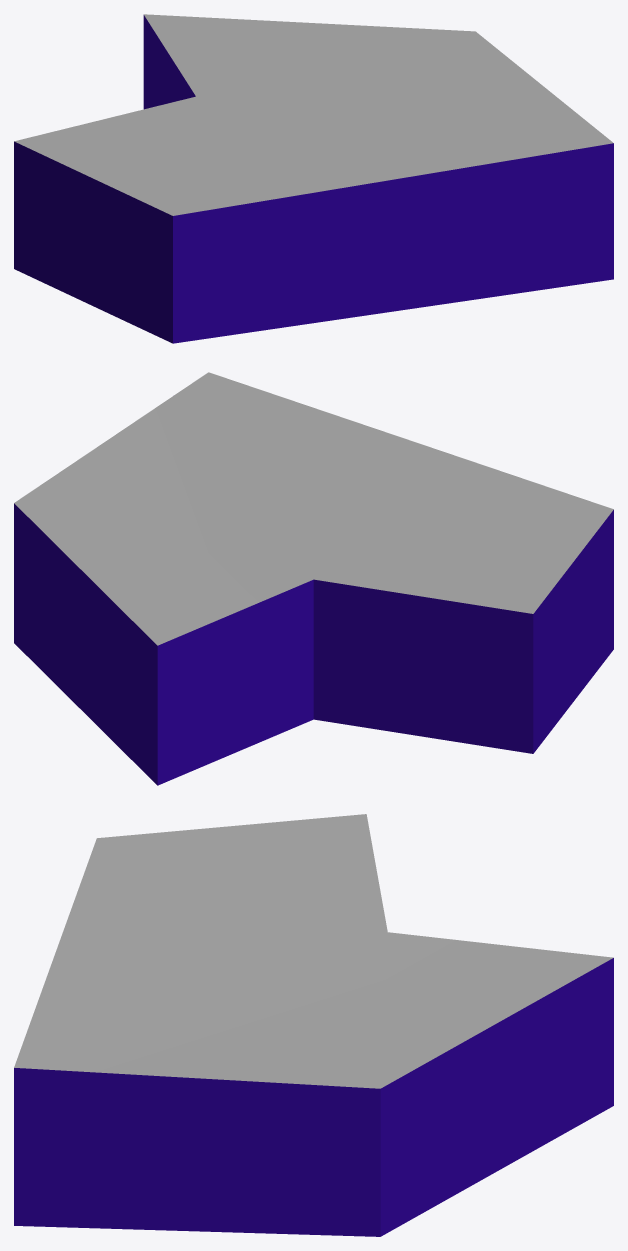
The model's file is Shard_S_6_N_2.fbx.
3 views of the same model, one above another, from view 1: azimuth 30°, elevation 25°; view 2: azimuth 150°, elevation 25°; view 3: azimuth 270°, elevation 25° (orthographic). The views are drawn at different scales.
Visible parts, largest first — view 1: pCube1; view 2: pCube1; view 3: pCube1.
Part boxes in pixels (x1,y1,x2,y2): pCube1: (14,14,613,343); pCube1: (14,372,613,785); pCube1: (14,814,613,1236).
Bounding box in the file's own units: 2.73 × 0.7593 × 2.61.
